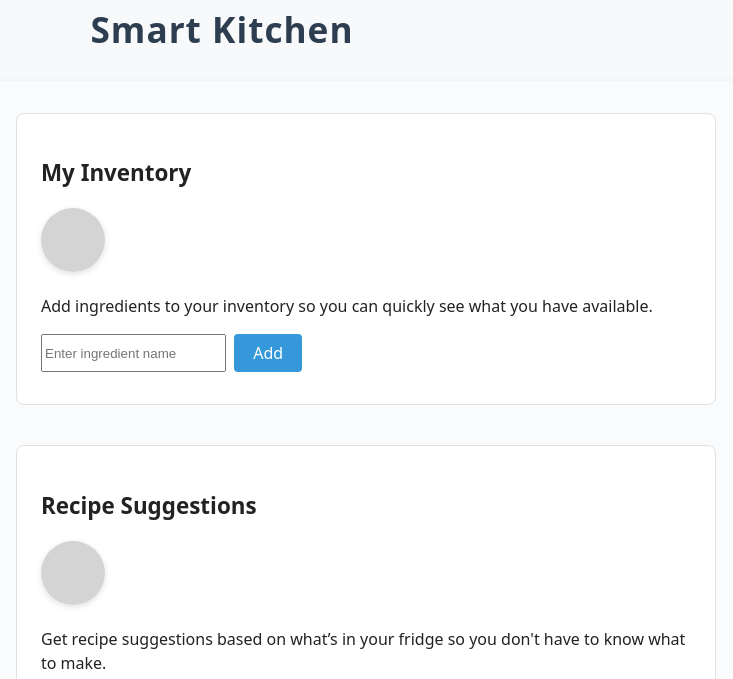
SmartKitchen › adds ingredient to inventory (positive)
This screenshot has width=733, height=679.
Step 1. Type "Tomato" into the field with placeholder "Enter ingredient name" → {"x": 134, "y": 354}, box [41,334,226,372]
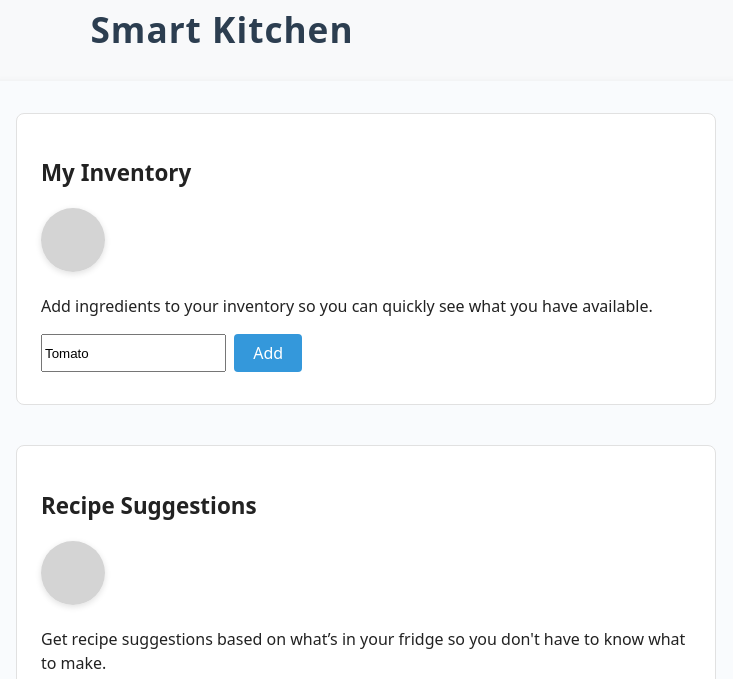
Step 2. Click the button "Add" → {"x": 268, "y": 354}, box [234,334,302,372]
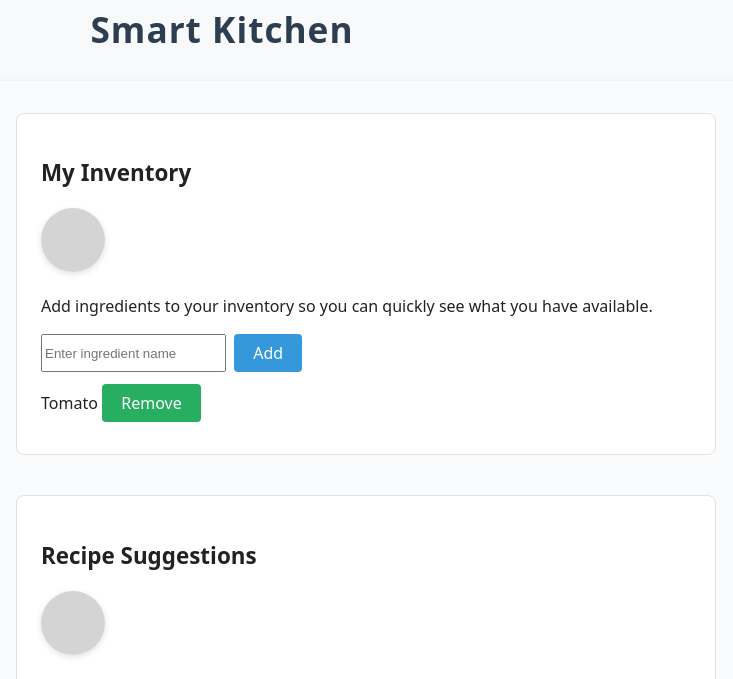
Check: the list item "Tomato" is shown, box [41,392,98,414]
